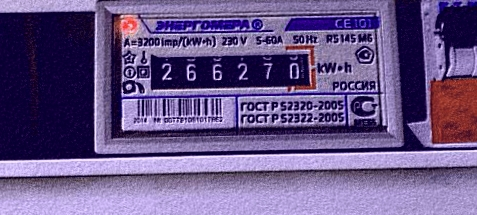0: (287, 60, 301, 80)
2: (160, 61, 173, 82), (237, 61, 250, 81)
6: (185, 61, 197, 82), (211, 62, 224, 81)
7: (263, 61, 273, 80)
screen: (138, 40, 322, 99)
